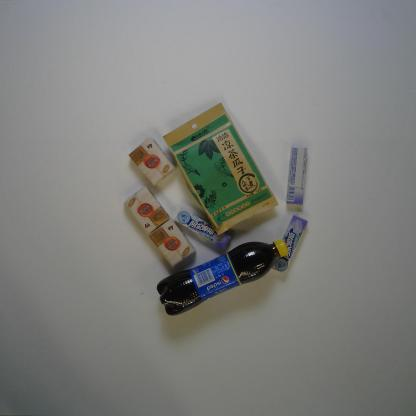Candy: (172, 204, 231, 252), (268, 212, 309, 274), (285, 144, 308, 206)
Dried Food: (161, 100, 280, 237)
Drink: (155, 236, 290, 318)
Tissue: (147, 218, 197, 270), (126, 136, 175, 187), (123, 185, 170, 235)
